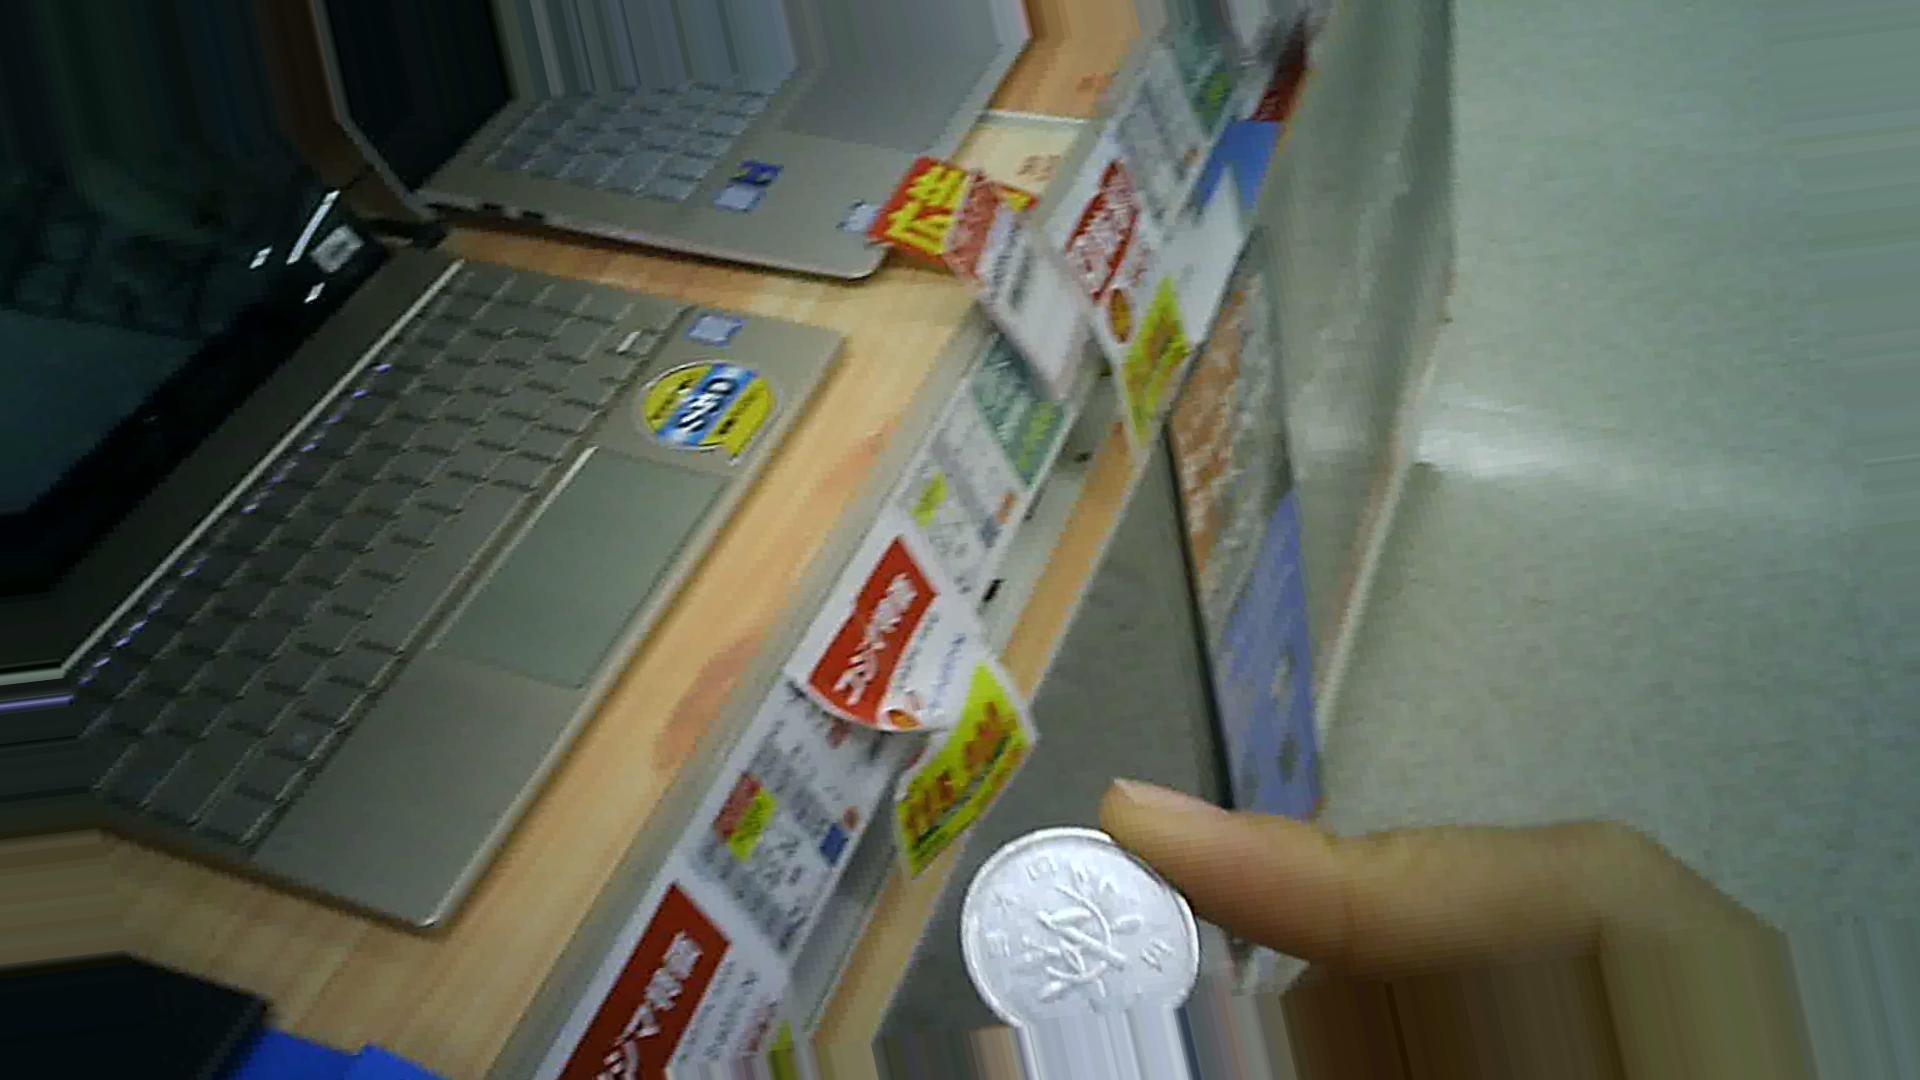1 Yen: (960, 822, 1216, 1040)
